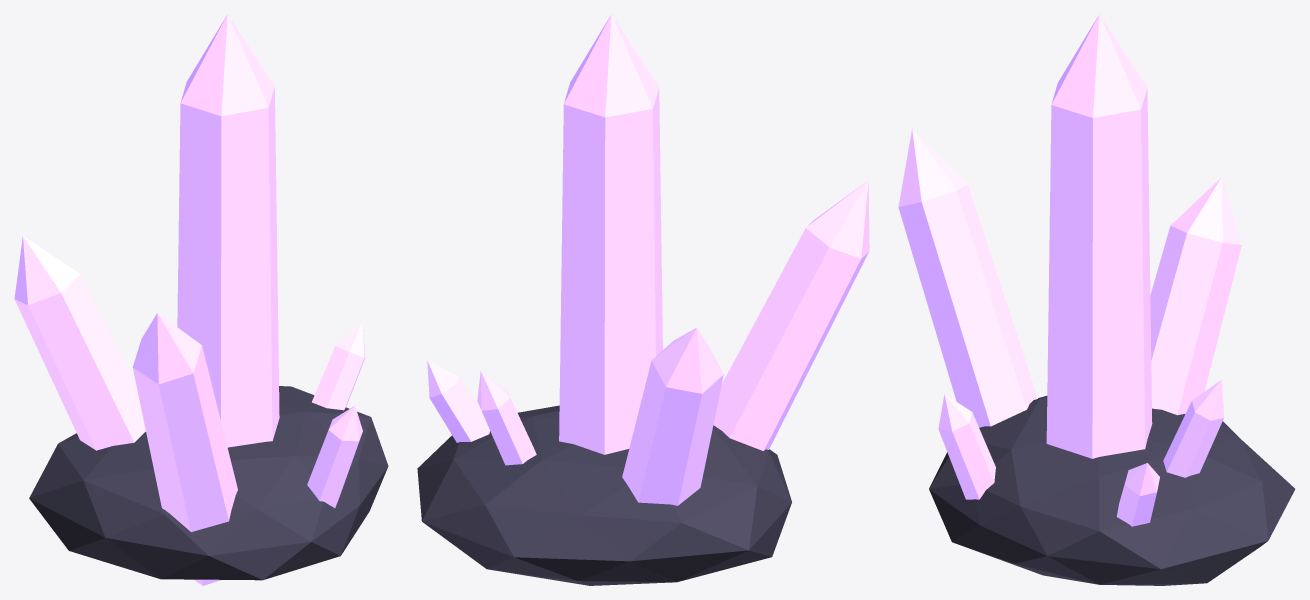
File: crystal_shard.glb
The picture shows the model from 3 angles, left to right: view 1: azimuth 30°, elevation 25°; view 2: azimuth 150°, elevation 25°; view 3: azimuth 270°, elevation 25°; orthographic projection.
Visible parts, largest first — view 1: CrystalShard; view 2: CrystalShard; view 3: CrystalShard.
Part boxes in pixels (bbox=[...]): CrystalShard: bbox=[14, 14, 388, 585]; CrystalShard: bbox=[417, 14, 869, 585]; CrystalShard: bbox=[898, 14, 1295, 585].
Bounding box in the file's own units: 0.9472 × 1.45 × 0.9624.
